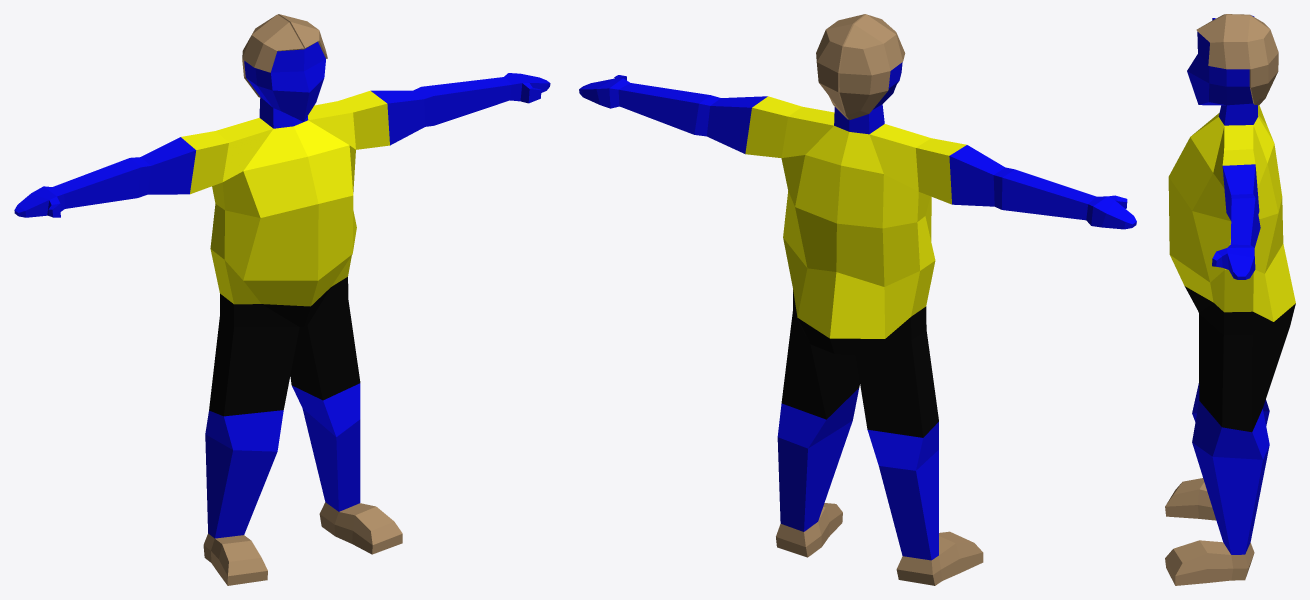
The model's file is enemy.fbx.
3 views of the same model, side by side, from view 1: azimuth 30°, elevation 25°; view 2: azimuth 150°, elevation 25°; view 3: azimuth 270°, elevation 25° (orthographic). The views are drawn at different scales.
Parts seen in each view (by area): view 1: enemy; view 2: enemy; view 3: enemy.
Part boxes in pixels (x1,y1,x2,y2): enemy: [14, 14, 550, 585]; enemy: [579, 14, 1136, 585]; enemy: [1165, 14, 1295, 585].
Size of the model in its own units: 1633 by 1537 by 345.
